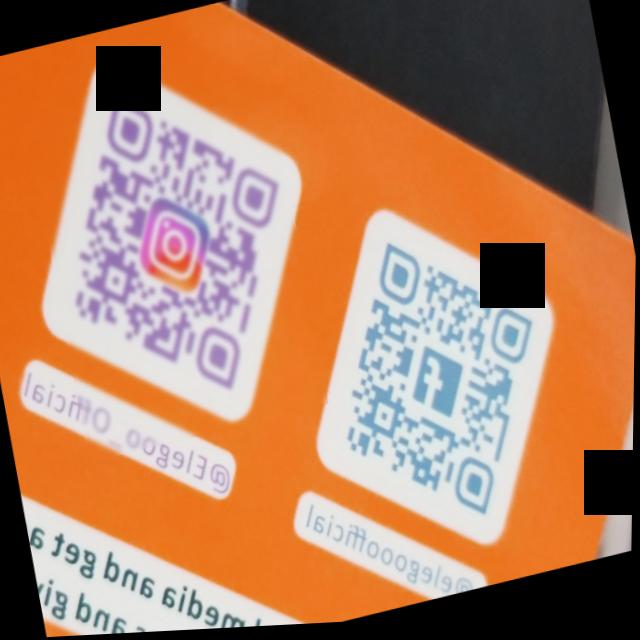QR_CODE: (20, 44, 334, 466), (302, 203, 582, 565)
